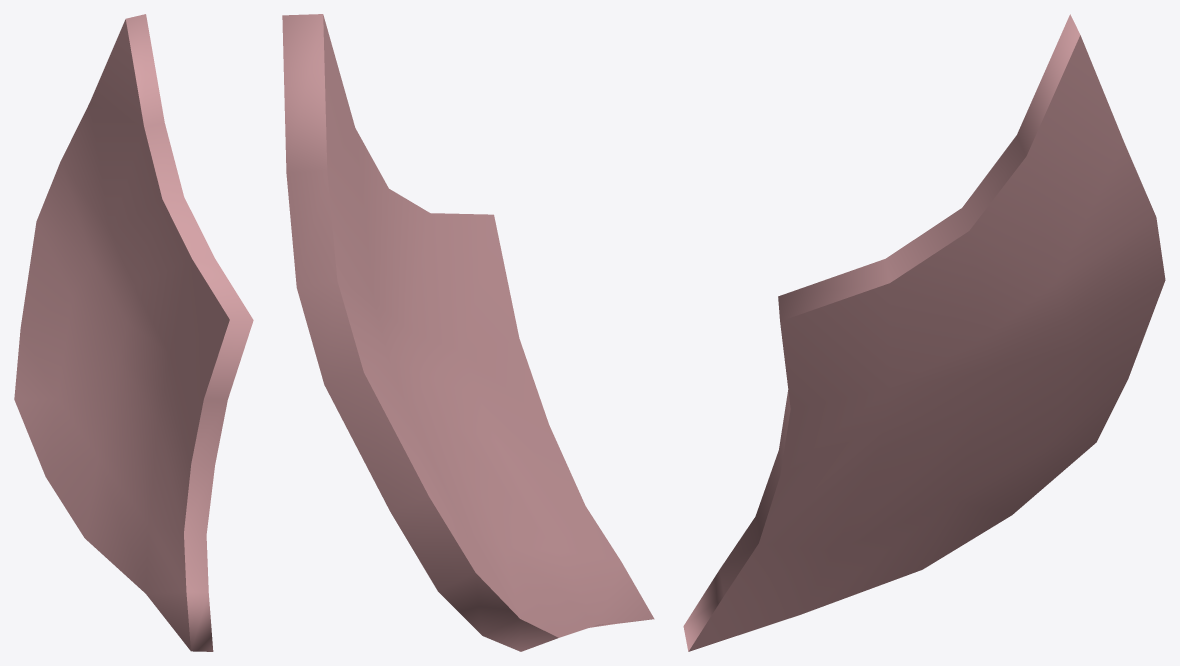
The picture shows the model from 3 angles, left to right: view 1: azimuth 30°, elevation 25°; view 2: azimuth 150°, elevation 25°; view 3: azimuth 270°, elevation 25°; orthographic projection. The views are drawn at different scales.
Visible parts, largest first — view 1: ZA_3ea398ce57712259; view 2: ZA_3ea398ce57712259; view 3: ZA_3ea398ce57712259.
Part boxes in pixels (x1=…): ZA_3ea398ce57712259: x1=14, y1=14, x2=253, y2=651; ZA_3ea398ce57712259: x1=282, y1=14, x2=654, y2=651; ZA_3ea398ce57712259: x1=683, y1=14, x2=1165, y2=651.
Bounding box in the file's own units: 0.0156 × 0.0577 × 0.0373.
